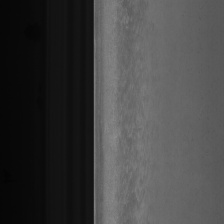silk_spot: (113, 16, 149, 218)
